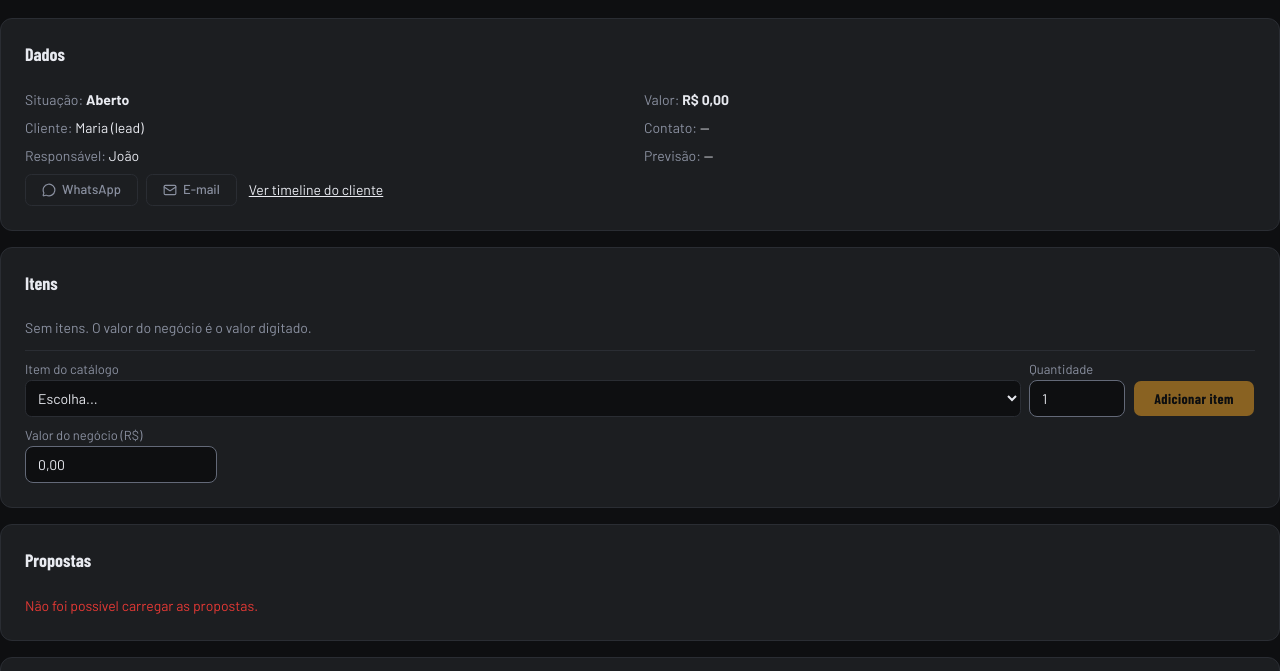
it: DetalheDoNegocio › valor digitado fora do formato mostra o erro em vez de falhar em silêncio
Step 1. Replace the text in the field labelled "Valor do negócio (R$)" with "1.500,00" → (121, 464), box x1=25 y1=446 x2=217 y2=483
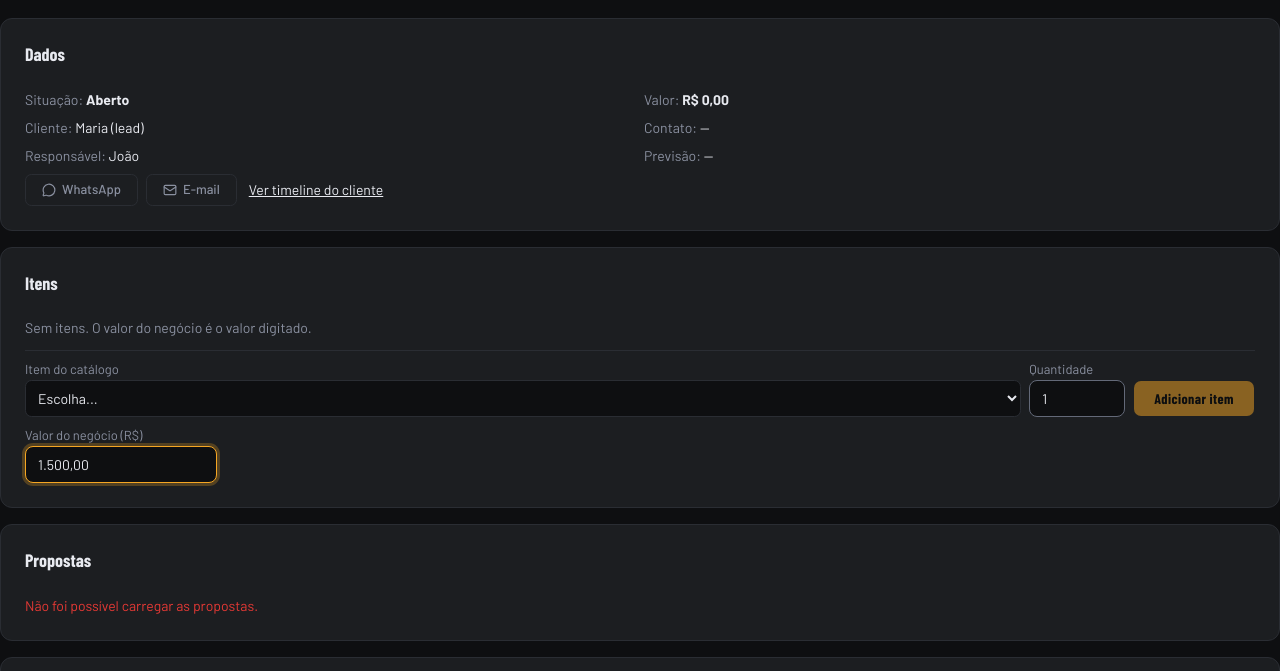
Step 2. Press Tab
(page scrolled)
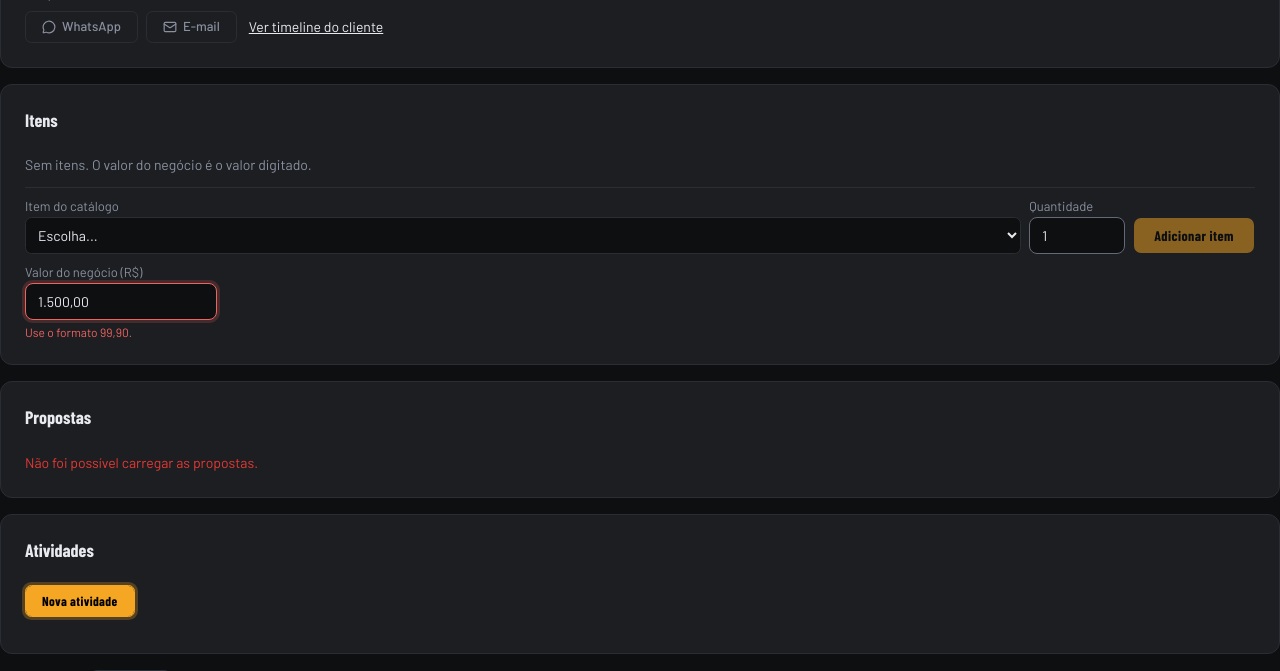
Expected: the text "Use o formato 99,90." is shown, x1=25 y1=325 x2=132 y2=339
